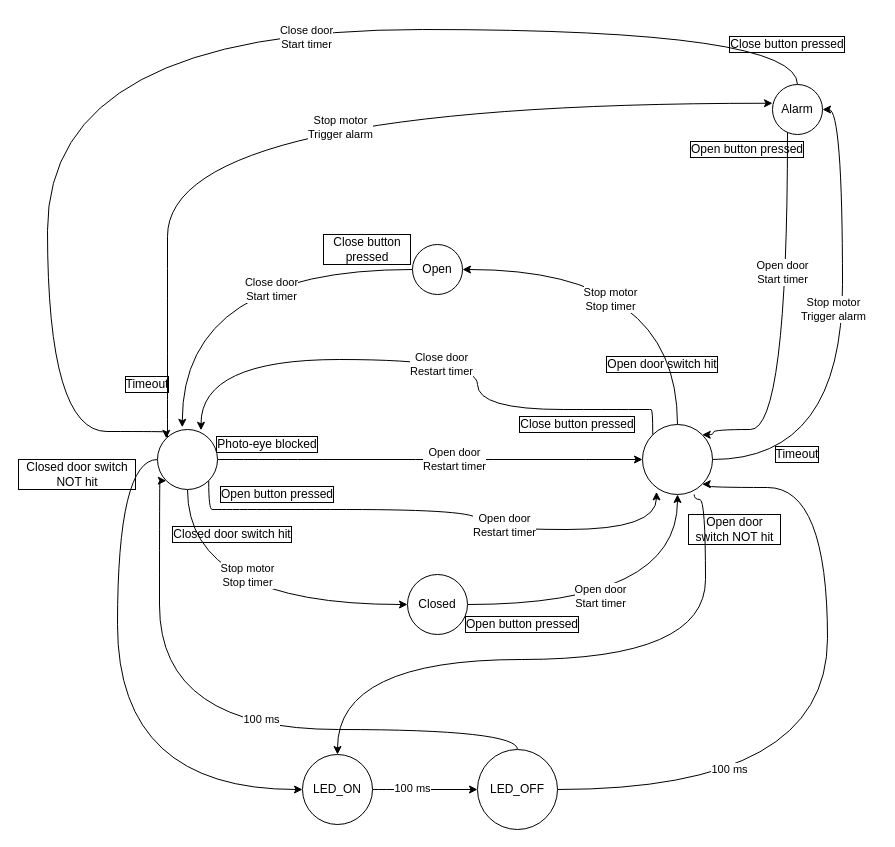
This 895x847 diagram has some shape labels left out. Here are the shapes that lost their labels. From the top down, the centre of each, then its label:
At (187,459): "Closing".
At (677,459): "Opening".
